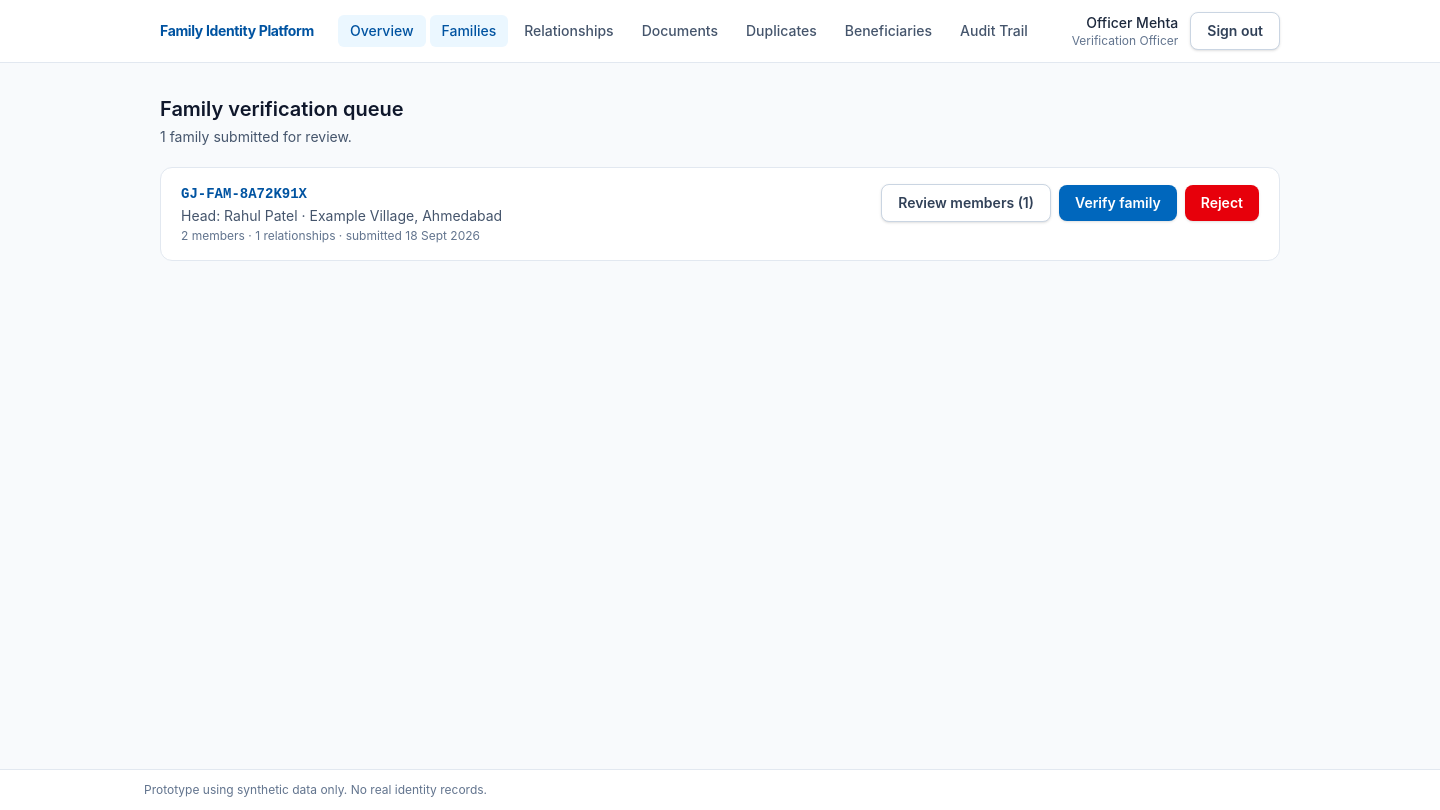
Test: FamilyQueuePage › expands to show each member
This screenshot has width=1440, height=810.
Click the button "Review members (1)" at (966, 203), box [881, 184, 1051, 222]
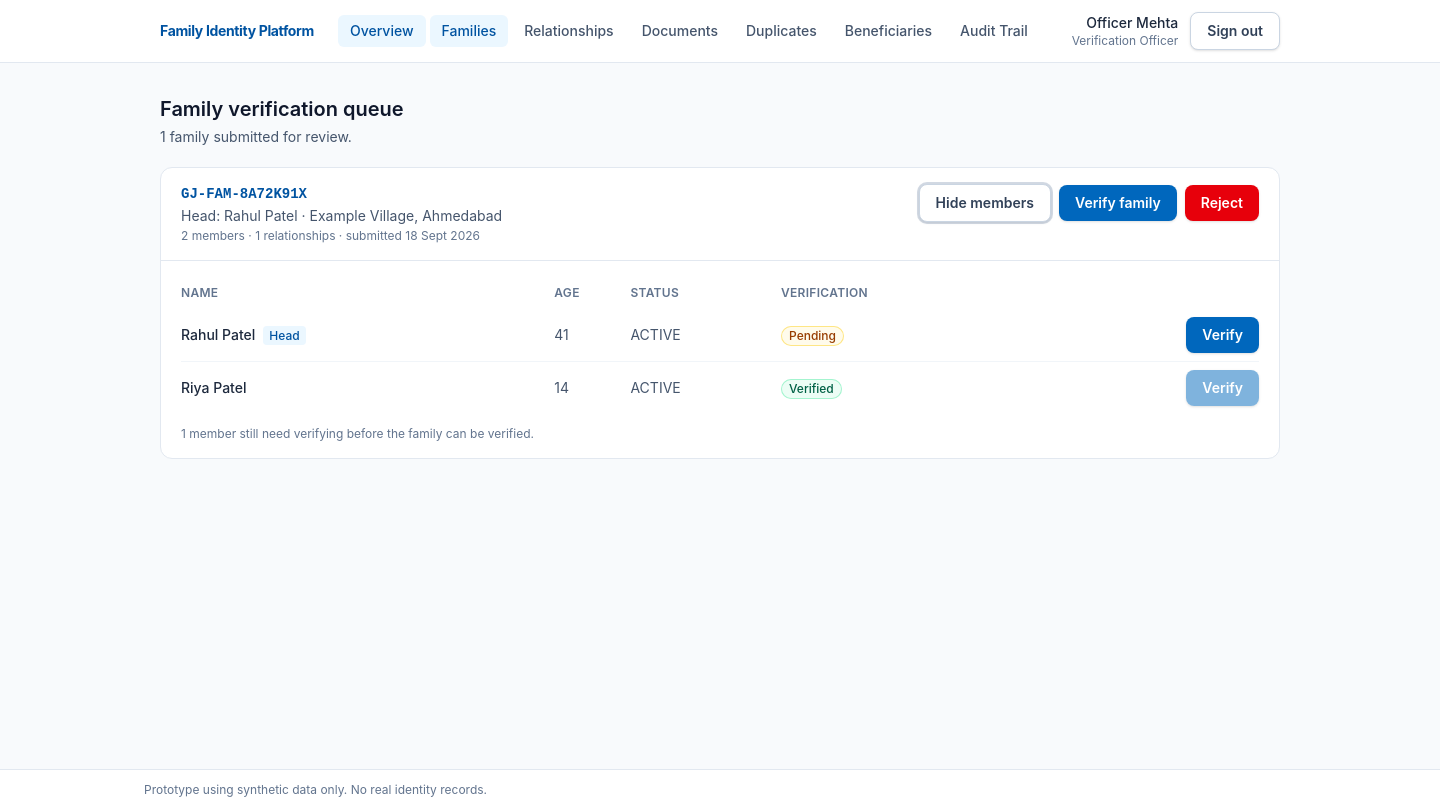
Now the text "Rahul Patel" is shown, box [181, 326, 255, 343]
Now the text "Riya Patel" is shown, box [181, 362, 554, 414]
